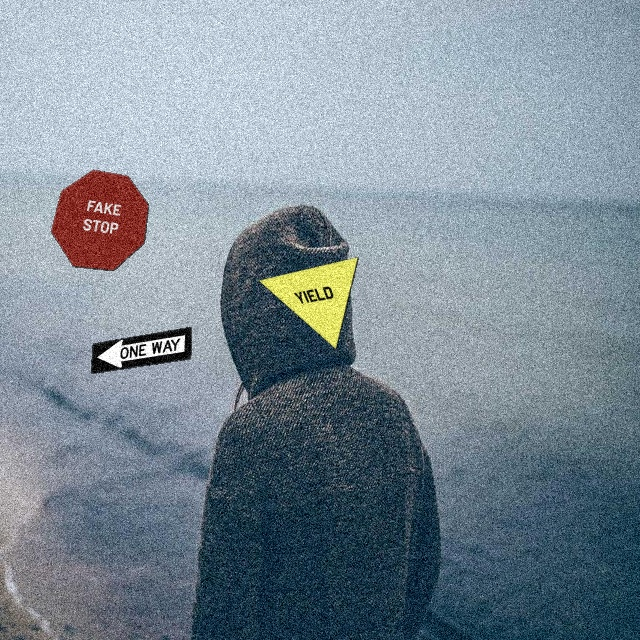FAKE_STOP: (50, 169, 149, 271)
ONE_WAY_ left: (90, 326, 192, 374)
YIELD: (257, 256, 359, 350)
